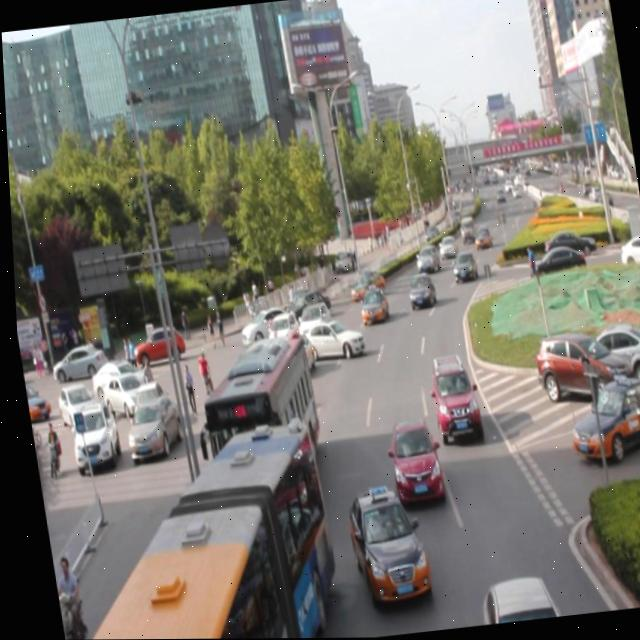car: (338, 484, 423, 604), (421, 350, 478, 444), (381, 418, 441, 506), (470, 570, 551, 625), (288, 315, 360, 362), (228, 348, 269, 402), (233, 304, 291, 342), (270, 332, 316, 379), (290, 300, 331, 349), (261, 309, 298, 357), (278, 288, 328, 319), (344, 266, 383, 301), (353, 282, 385, 324), (401, 269, 432, 308), (445, 248, 474, 283), (408, 242, 438, 274)
van: (34, 417, 337, 640), (190, 334, 321, 482)
